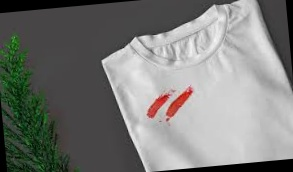lipstick: (142, 88, 170, 119), (161, 91, 192, 118), (175, 86, 195, 99)
